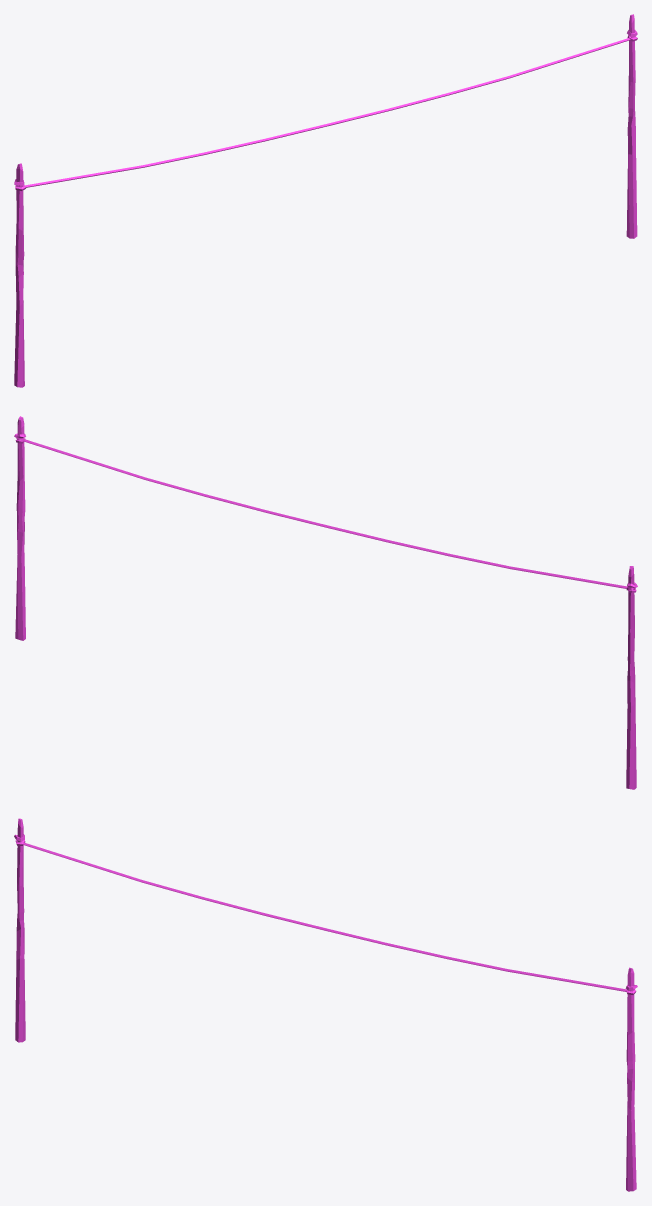
File: SM_Clothesline_Poles_7m_Empty_Fantasy.fbx
3 views of the same model, one above another, from view 1: azimuth 30°, elevation 25°; view 2: azimuth 150°, elevation 25°; view 3: azimuth 330°, elevation 25° (orthographic).
Visible parts, largest first — view 1: SM_Clothesline_Poles_7m_Empty_Fantasy; view 2: SM_Clothesline_Poles_7m_Empty_Fantasy; view 3: SM_Clothesline_Poles_7m_Empty_Fantasy.
Part boxes in pixels (x1,y1,x2,y2): SM_Clothesline_Poles_7m_Empty_Fantasy: [14, 14, 637, 387]; SM_Clothesline_Poles_7m_Empty_Fantasy: [14, 416, 637, 789]; SM_Clothesline_Poles_7m_Empty_Fantasy: [14, 818, 637, 1191].
Size of the model in its own units: 7.16 by 2.45 by 0.1128.
